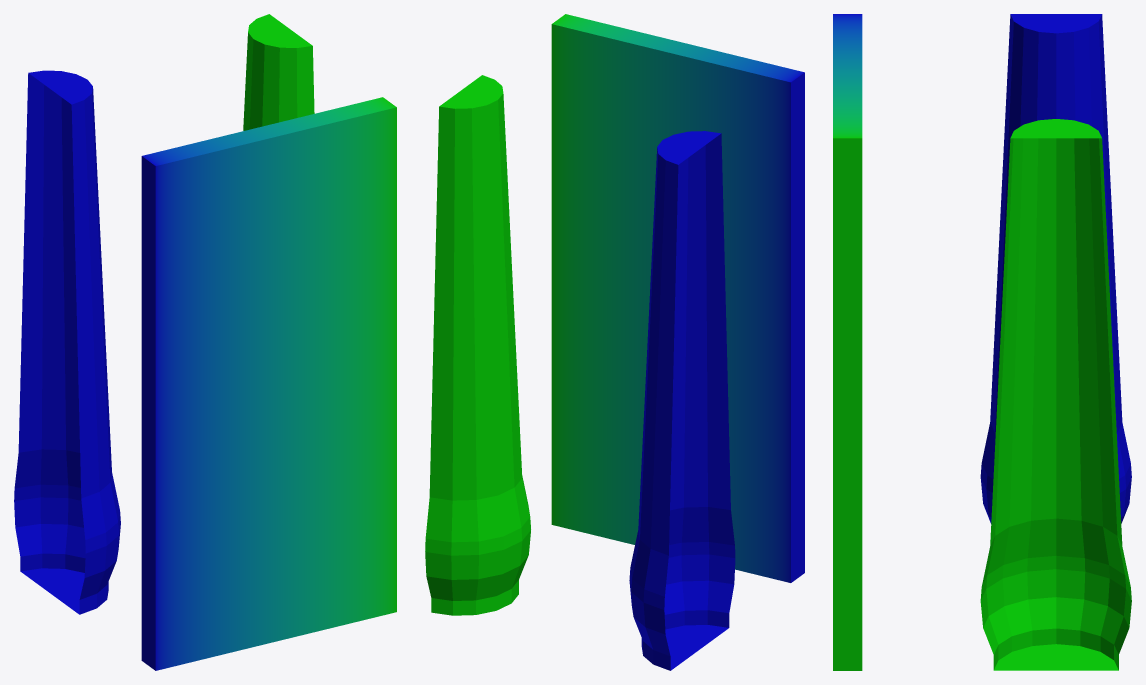
Rendered from colons.fbx.
3 views of the same model, side by side, from view 1: azimuth 30°, elevation 25°; view 2: azimuth 150°, elevation 25°; view 3: azimuth 270°, elevation 25° (orthographic). The views are drawn at different scales.
Visible parts, largest first — view 1: EXAMPLE_WALL.001; view 2: EXAMPLE_WALL.001; view 3: EXAMPLE_WALL.001.
Part boxes in pixels (x1,y1,x2,y2): EXAMPLE_WALL.001: (14, 14, 396, 670); EXAMPLE_WALL.001: (425, 14, 804, 670); EXAMPLE_WALL.001: (833, 14, 1131, 670).
Bounding box in the file's own units: 200 × 400 × 203.
